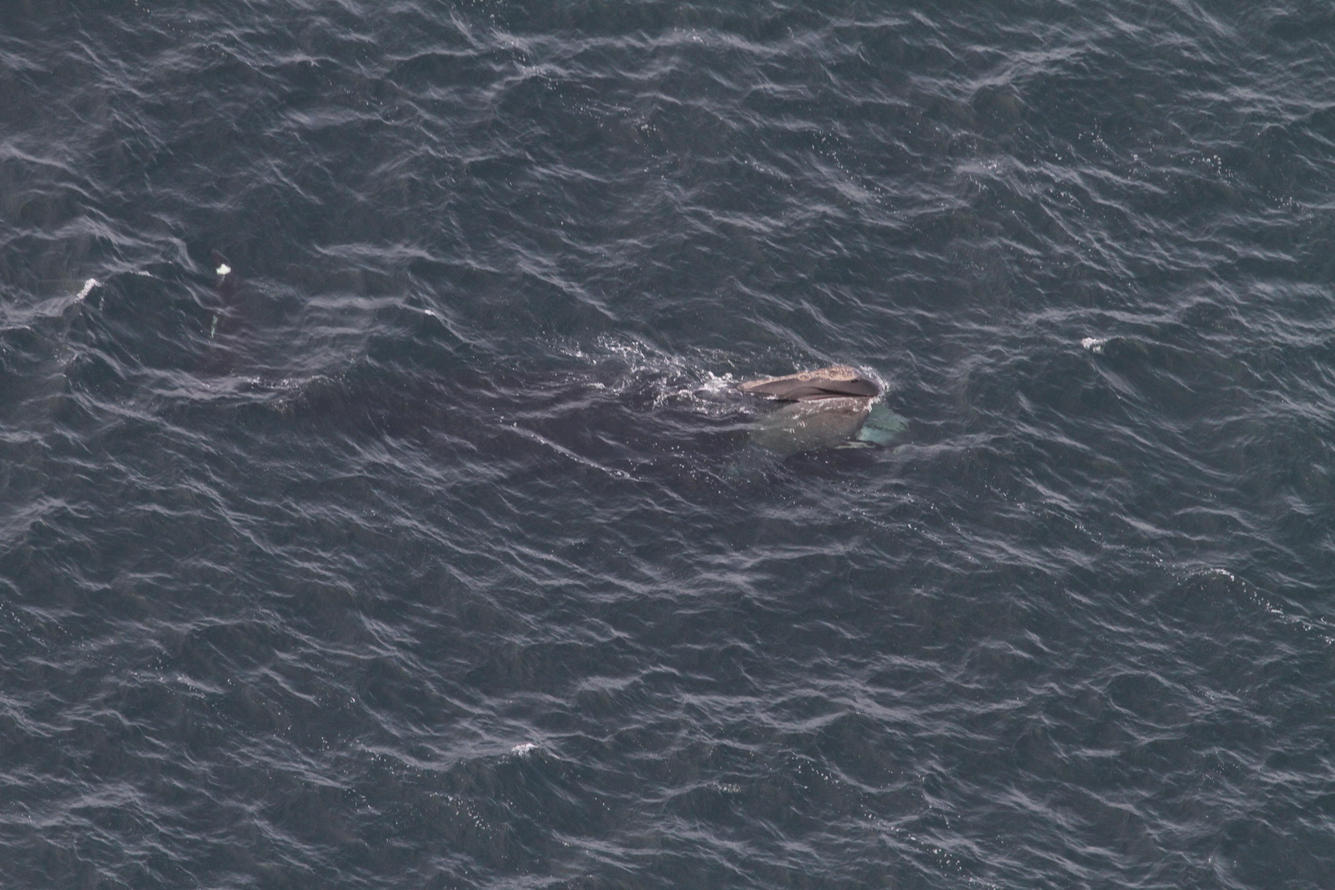whale: (490, 359, 919, 476)
